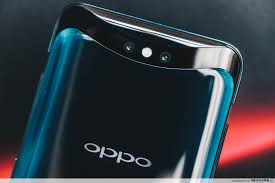oppo: (4, 1, 247, 183)
